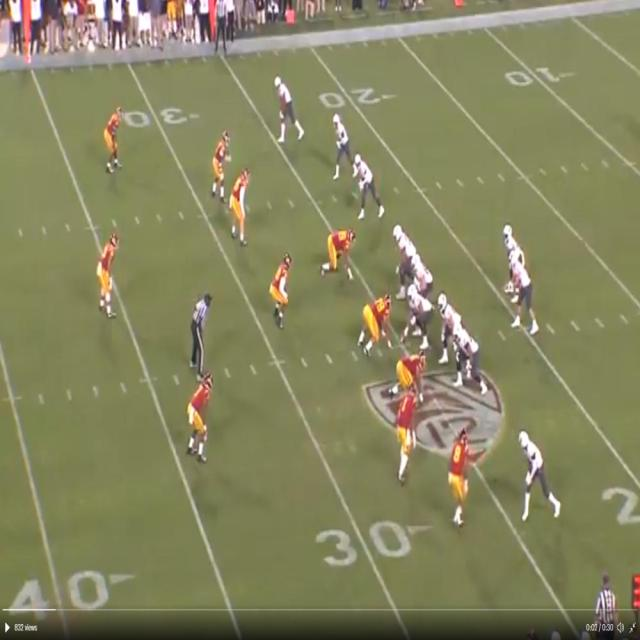center: (405, 281, 428, 340)
db: (446, 420, 472, 526), (189, 374, 212, 456), (100, 233, 118, 314), (105, 106, 122, 169)
lb: (398, 382, 417, 472), (232, 171, 251, 240), (273, 254, 290, 324), (214, 131, 230, 195)
qb: (511, 247, 536, 331)
skill: (514, 427, 554, 518), (356, 151, 383, 216), (276, 78, 297, 144), (332, 107, 348, 173), (504, 223, 518, 256)
